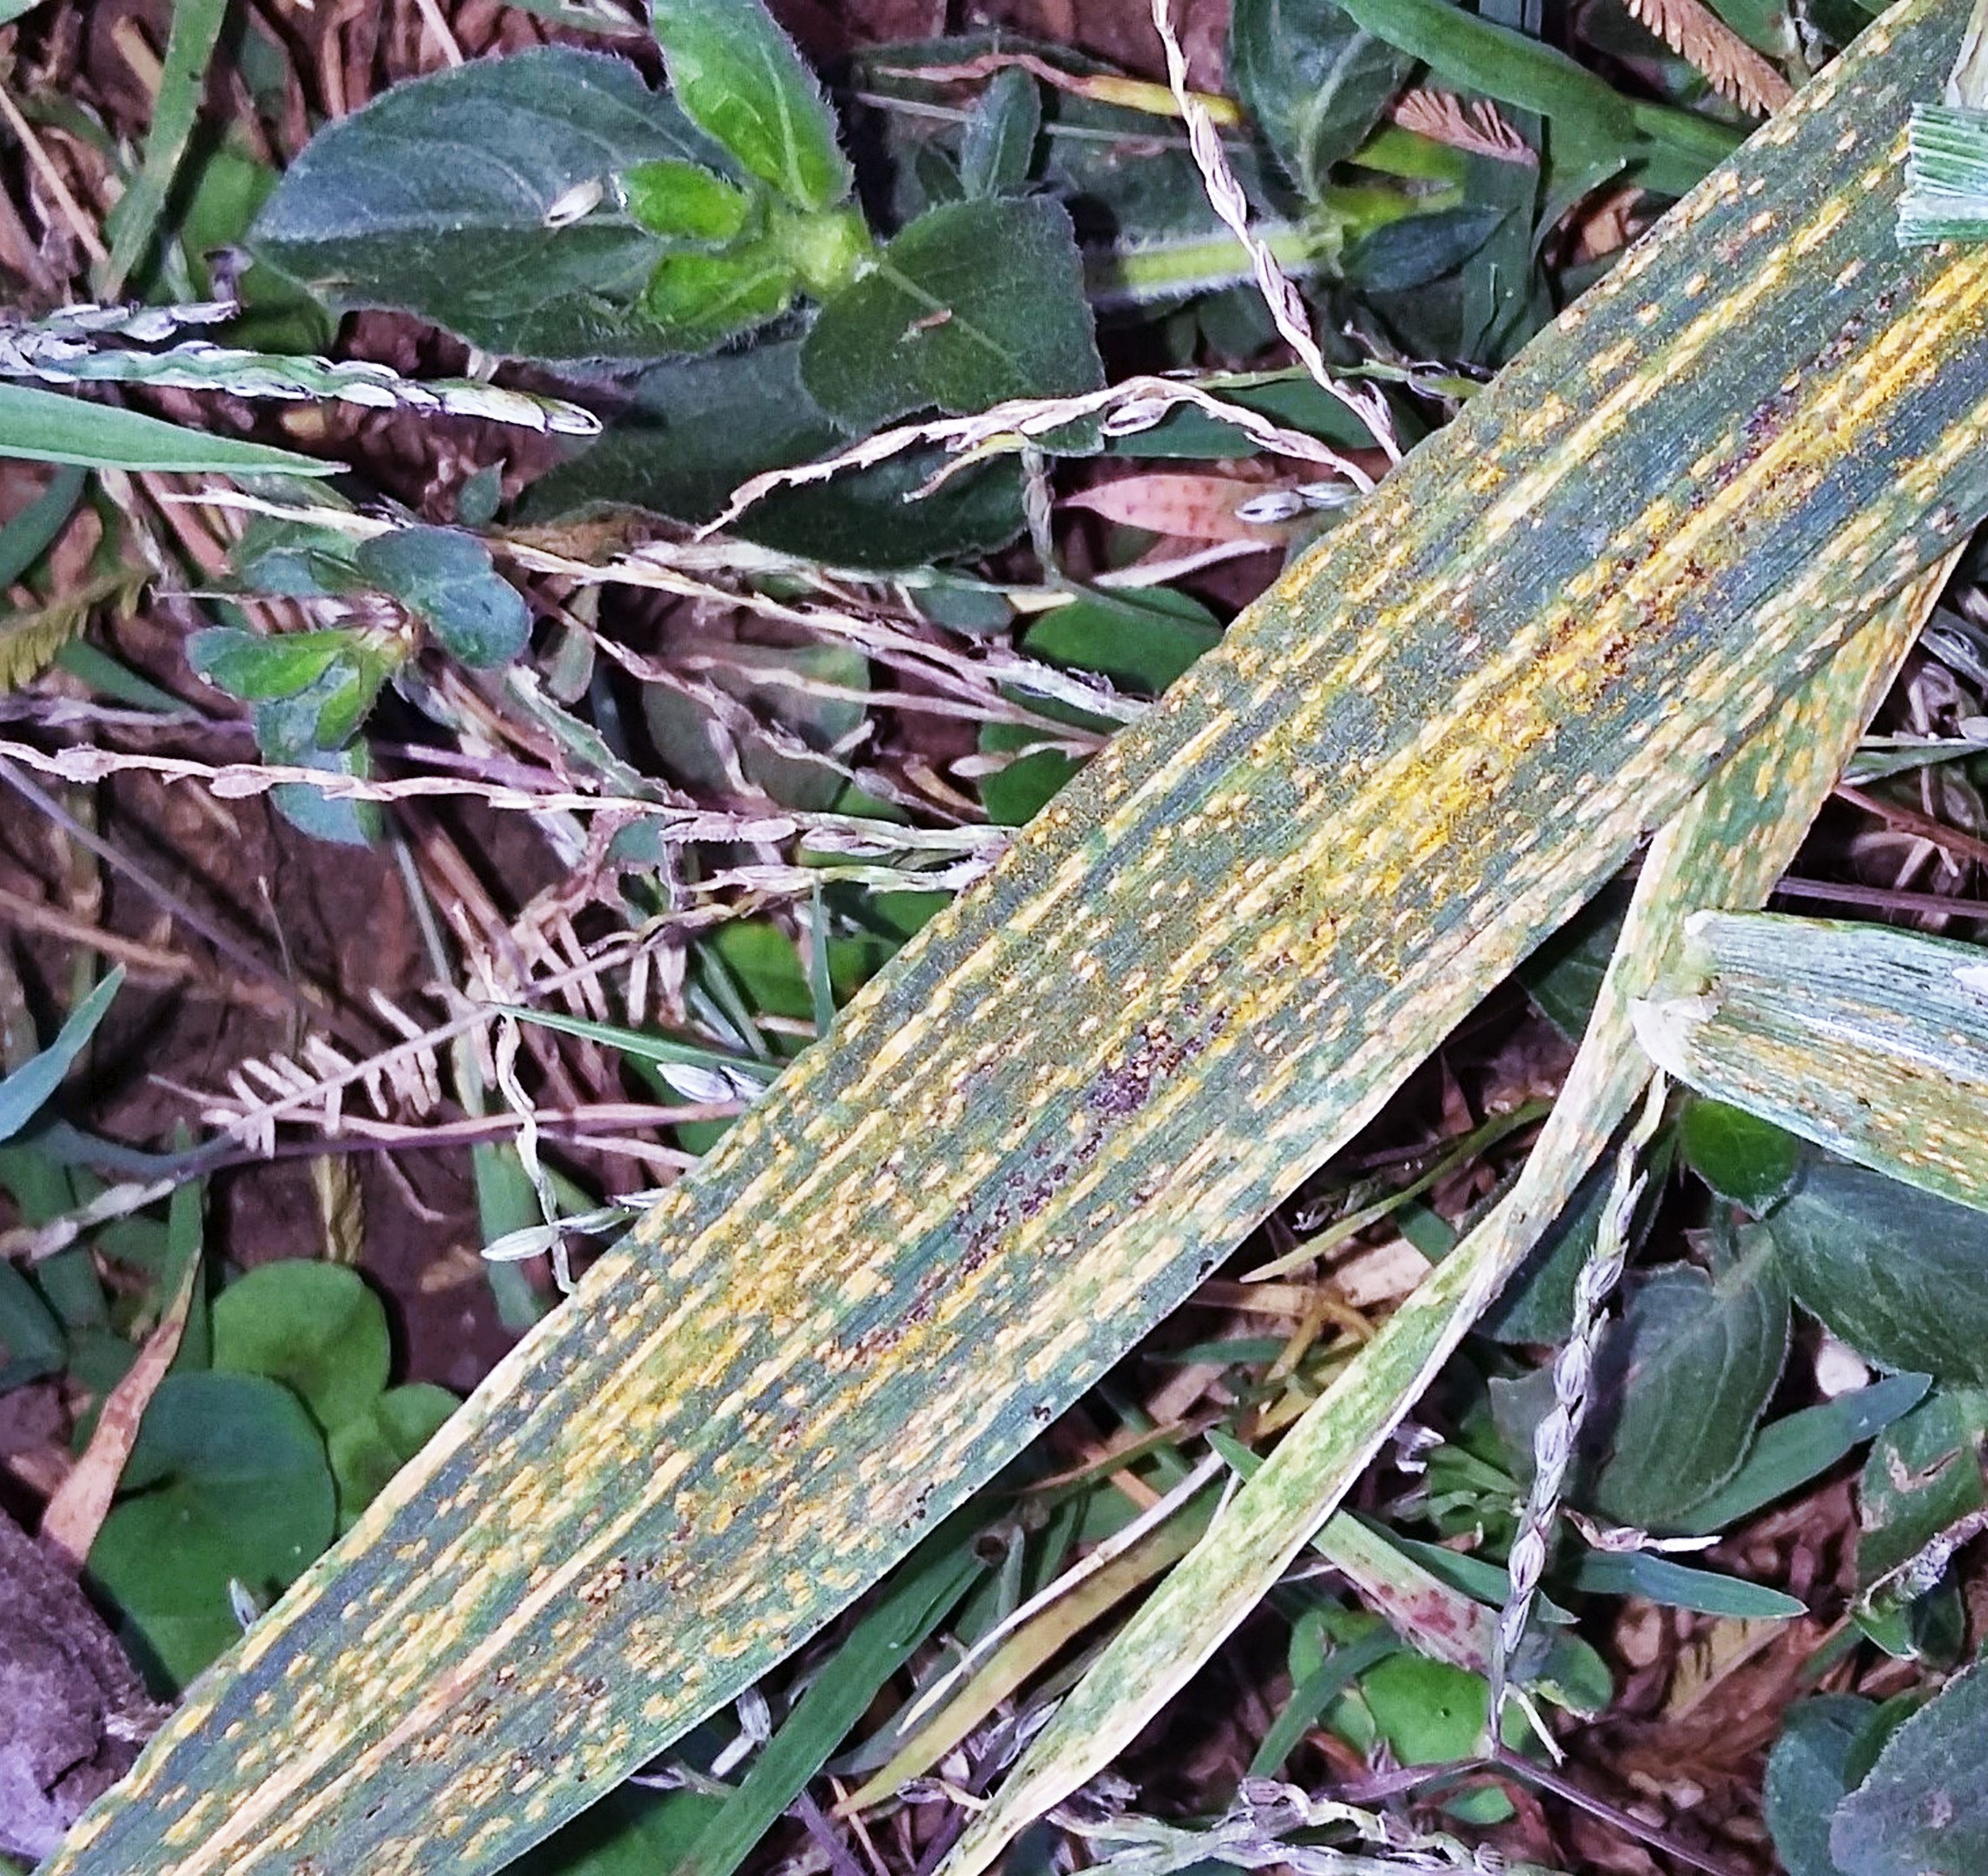Leaf Rust: (439, 358, 1805, 1677)
